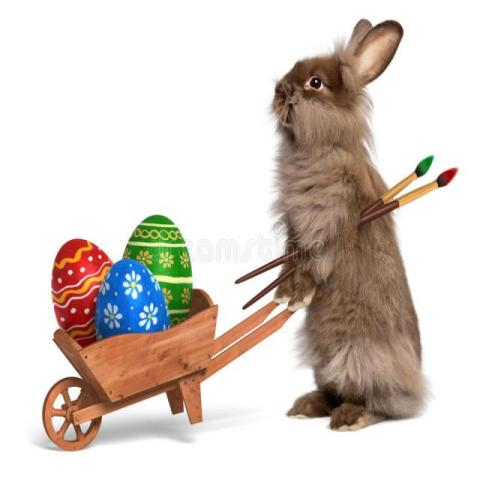small_animal: (266, 16, 432, 434)
